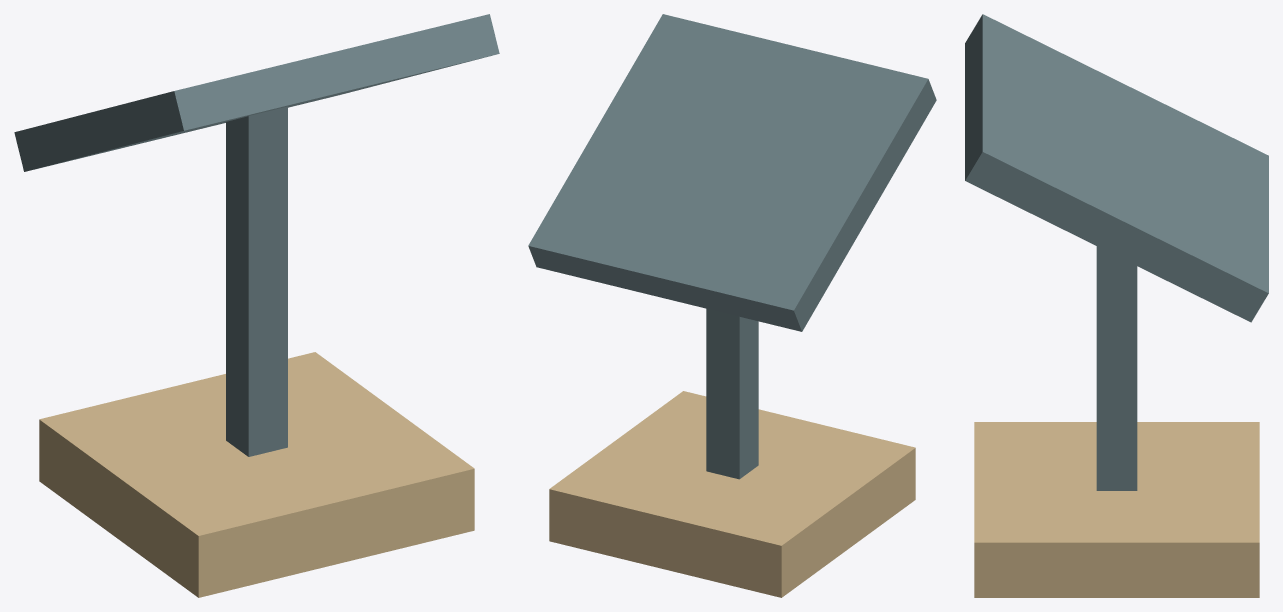
File: satellite-receiver.source.glb
3 views of the same model, side by side, from view 1: azimuth 30°, elevation 25°; view 2: azimuth 150°, elevation 25°; view 3: azimuth 270°, elevation 25° (orthographic). The views are drawn at different scales.
Parts seen in each view (by area): view 1: satellite-receiver-base-mesh, satellite-receiver-dish-mesh, satellite-receiver-mast-mesh; view 2: satellite-receiver-dish-mesh, satellite-receiver-base-mesh, satellite-receiver-mast-mesh; view 3: satellite-receiver-dish-mesh, satellite-receiver-base-mesh, satellite-receiver-mast-mesh.
Boxes of the visible parts, <box> form: satellite-receiver-base-mesh: <box>39,352,474,597</box>; satellite-receiver-dish-mesh: <box>14,14,499,171</box>; satellite-receiver-mast-mesh: <box>226,106,287,456</box>; satellite-receiver-dish-mesh: <box>528,14,936,331</box>; satellite-receiver-base-mesh: <box>549,391,915,597</box>; satellite-receiver-mast-mesh: <box>706,308,758,479</box>; satellite-receiver-dish-mesh: <box>965,14,1268,322</box>; satellite-receiver-base-mesh: <box>974,422,1259,597</box>; satellite-receiver-mast-mesh: <box>1096,246,1137,490</box>.
Size of the model in its own units: 1.6 by 2.46 by 1.49.
